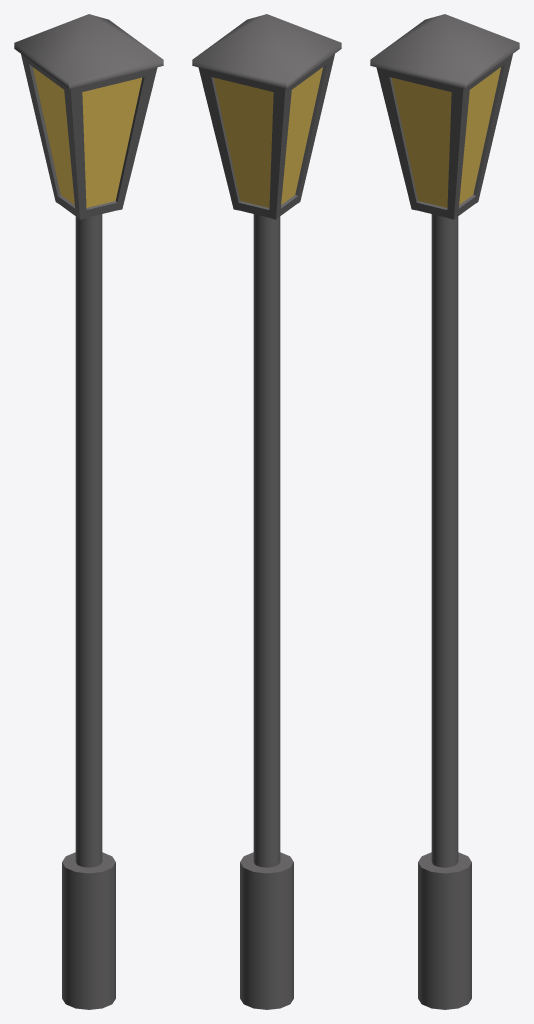
File: Lights_1_231109.glb
3 renders of one model, left to right at view 1: azimuth 30°, elevation 25°; view 2: azimuth 150°, elevation 25°; view 3: azimuth 330°, elevation 25°, orthographic.
Parts seen in each view (by area): view 1: Lights_1; view 2: Lights_1; view 3: Lights_1.
Part boxes in pixels (box(x1,y1,x2,y2)): Lights_1: box(14, 14, 163, 1009); Lights_1: box(192, 14, 341, 1009); Lights_1: box(370, 14, 519, 1009).
Size of the model in its own units: 0.2118 by 2.11 by 0.2118.
1 material, 1 textured.
